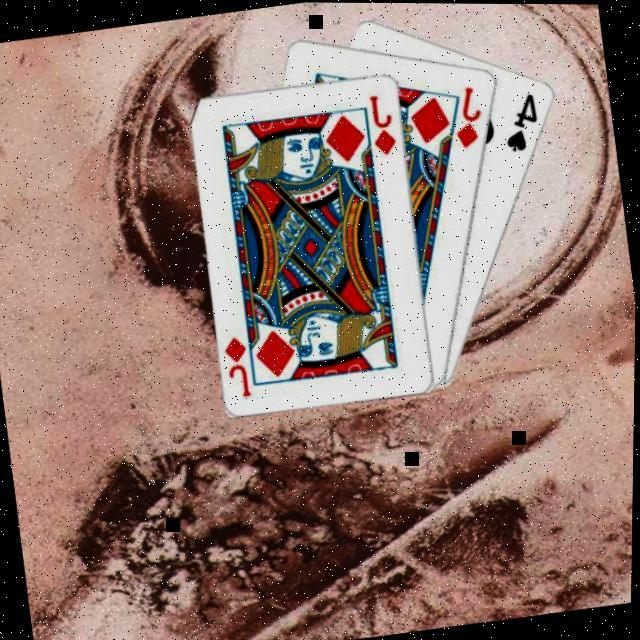4S: (496, 89, 544, 156)
JD: (445, 82, 489, 153), (364, 90, 401, 159), (219, 332, 256, 401)
